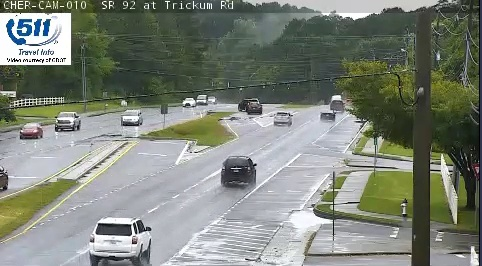car: (89, 217, 152, 259), (220, 156, 256, 182), (273, 112, 292, 126), (320, 109, 335, 120)
